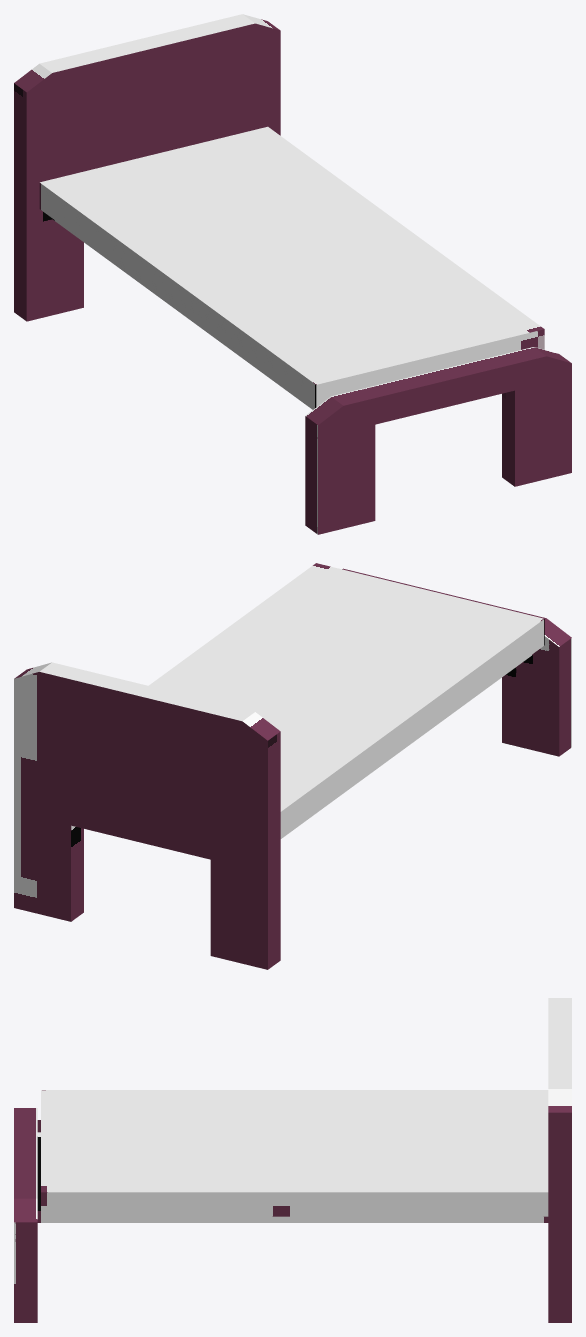
Rendered from Bed (2).fbx.
3 views of the same model, one above another, from view 1: azimuth 30°, elevation 25°; view 2: azimuth 150°, elevation 25°; view 3: azimuth 270°, elevation 25° (orthographic). The views are drawn at different scales.
Visible parts, largest first — view 1: bed; view 2: bed; view 3: bed.
Part boxes in pixels (left/top/right/bottom): bed: left=14, top=14, right=571, bottom=534; bed: left=14, top=563, right=571, bottom=969; bed: left=14, top=998, right=571, bottom=1322.
Size of the model in its own units: 80 by 73 by 166.
